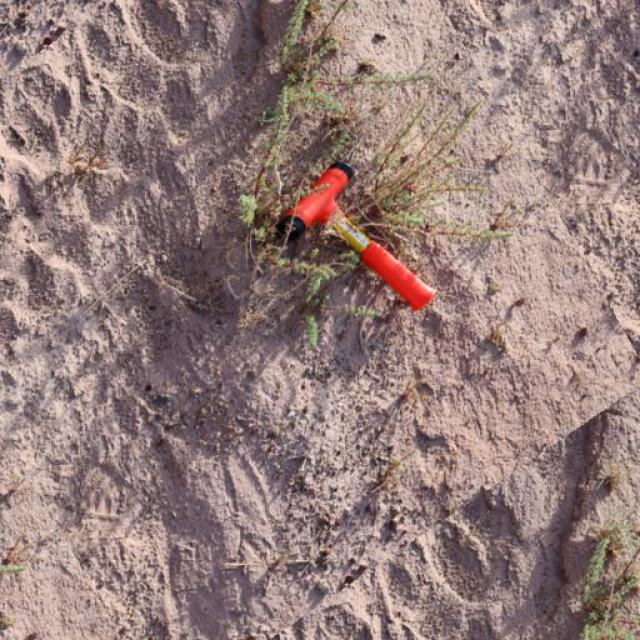mallet: (273, 159, 437, 311)
